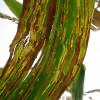Corn leaf blight: (2, 1, 98, 99)
